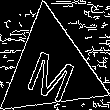M_NE: (22, 37, 80, 100)
